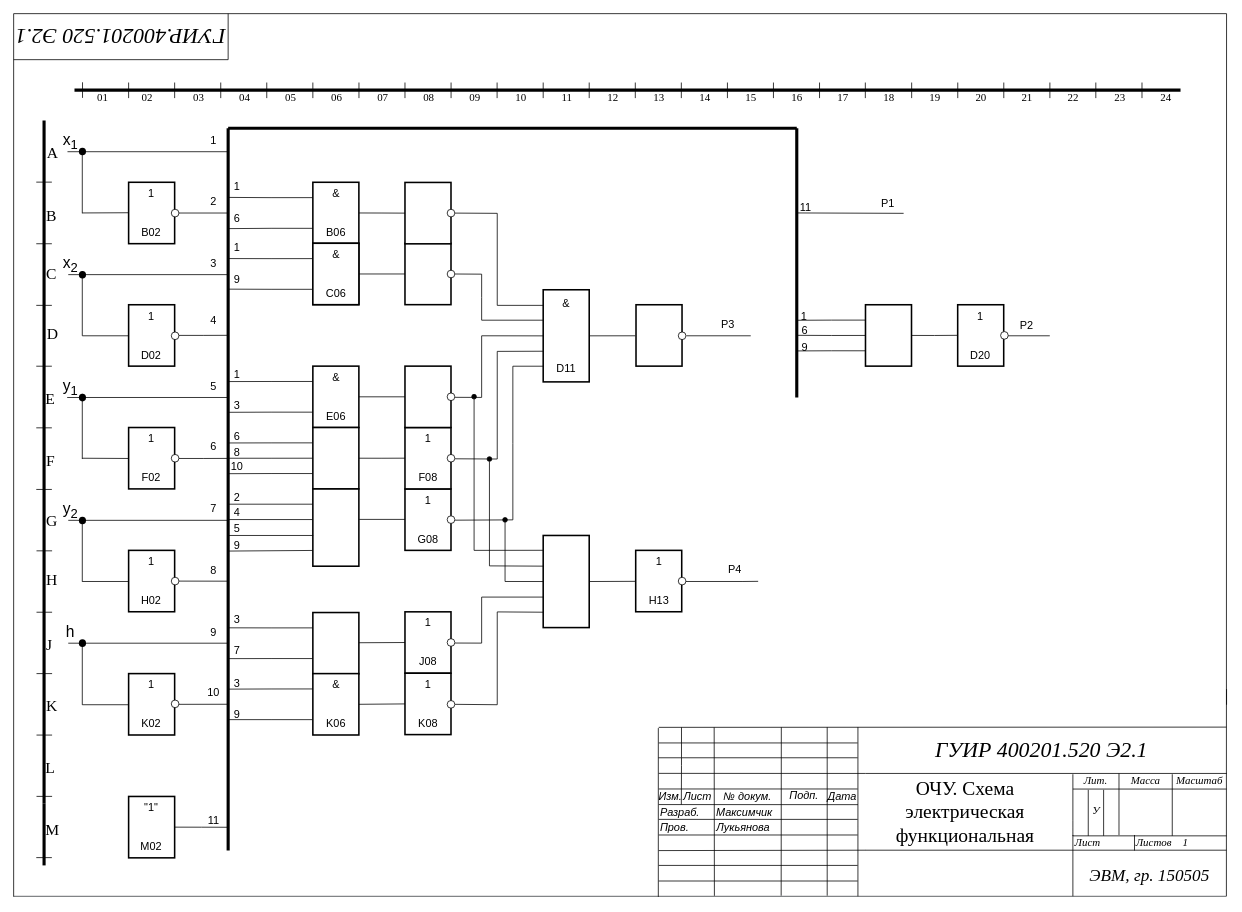
This 1242x912 diagram has some shape labels left out. Here are the shapes that lost their labels. From the top down, the centre of each, then its label:
the point at 427,212: 1 B08
the point at 427,273: 1 C08
the point at 658,335: 1 D13
the point at 888,335: & D18
the point at 427,396: 1 E08
the point at 335,457: & F06
the point at 335,527: & G06
the point at 566,581: & H11
the point at 335,642: & J06
